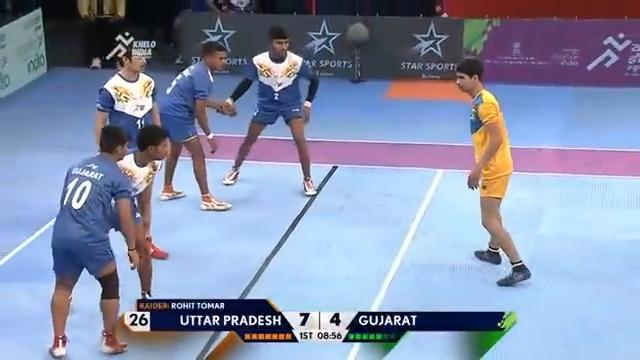Player: (47, 124, 144, 357), (220, 24, 321, 197), (157, 40, 235, 211), (103, 45, 162, 184), (123, 132, 175, 240)
Raider: (449, 55, 533, 288)
